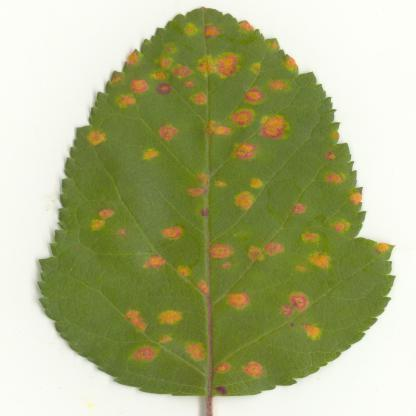Apple rust leaf: (4, 2, 402, 403)
